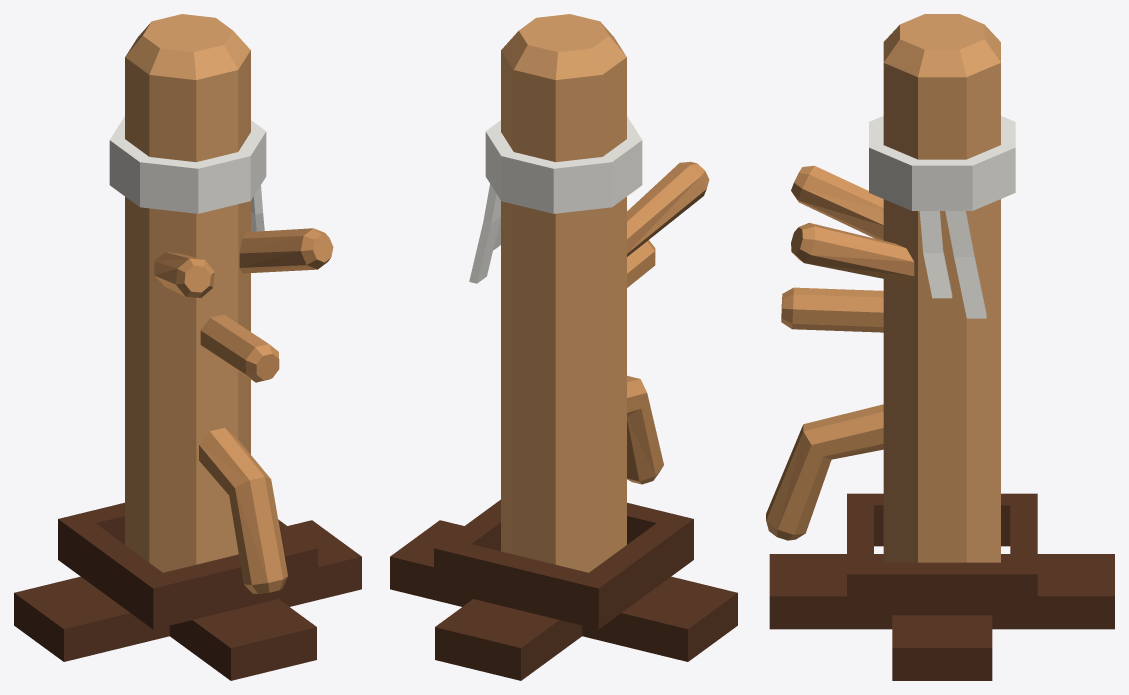
The model's file is training-dummy.glb.
3 renders of one model, left to right at view 1: azimuth 30°, elevation 25°; view 2: azimuth 150°, elevation 25°; view 3: azimuth 270°, elevation 25°, orthographic.
Parts seen in each view (by area): view 1: Post, Frame, Arms, Cloth; view 2: Post, Frame, Cloth, Arms; view 3: Post, Frame, Arms, Cloth.
Boxes of the visible parts, x1,y1,x2,y2 form: Post: (125, 14, 250, 572); Frame: (14, 502, 361, 680); Arms: (154, 228, 333, 593); Cloth: (109, 116, 266, 231); Post: (501, 14, 626, 572); Frame: (390, 499, 737, 680); Cloth: (469, 116, 642, 283); Arms: (627, 161, 709, 484); Post: (883, 14, 1000, 562); Frame: (769, 493, 1114, 680); Arms: (766, 165, 914, 540); Cloth: (869, 116, 1015, 318).
Size of the model in its own units: 3.8 by 7 by 3.84.
